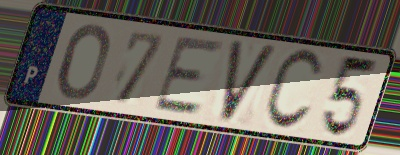5: (320, 52, 380, 141)
7: (117, 28, 168, 108)
C: (260, 47, 325, 134)
E: (150, 35, 229, 118)
O: (55, 22, 111, 102)
V: (218, 37, 282, 127)
